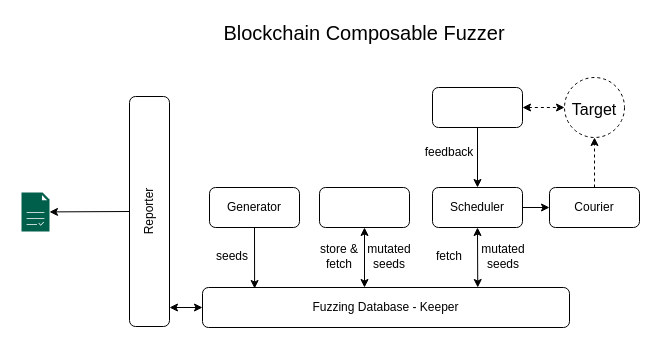
Some shapes in this 657 by 345 pixel diagram are drawn without their labels. The shapes that lost their labels are listed below. From the top down, each one's centre as x and y in pixels, then its label:
At [477,107]: "Collector".
At [35,211]: "Report".
At [364,207]: "Mutator".
